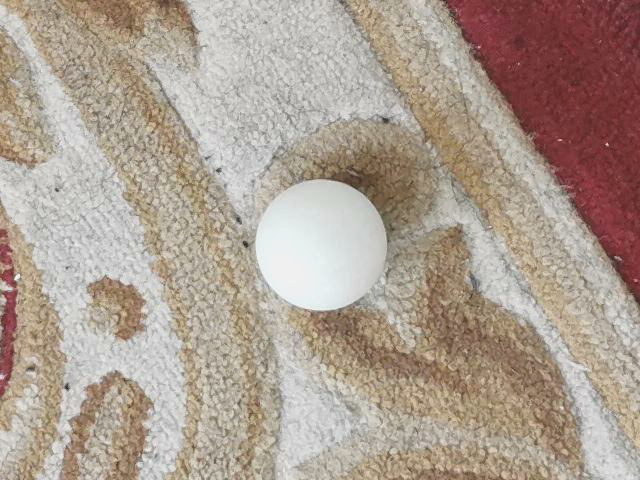ball: (255, 180, 388, 312)
